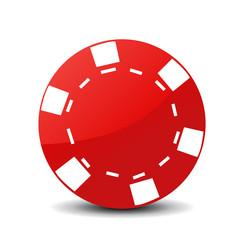chip-red: (39, 40, 205, 208)
